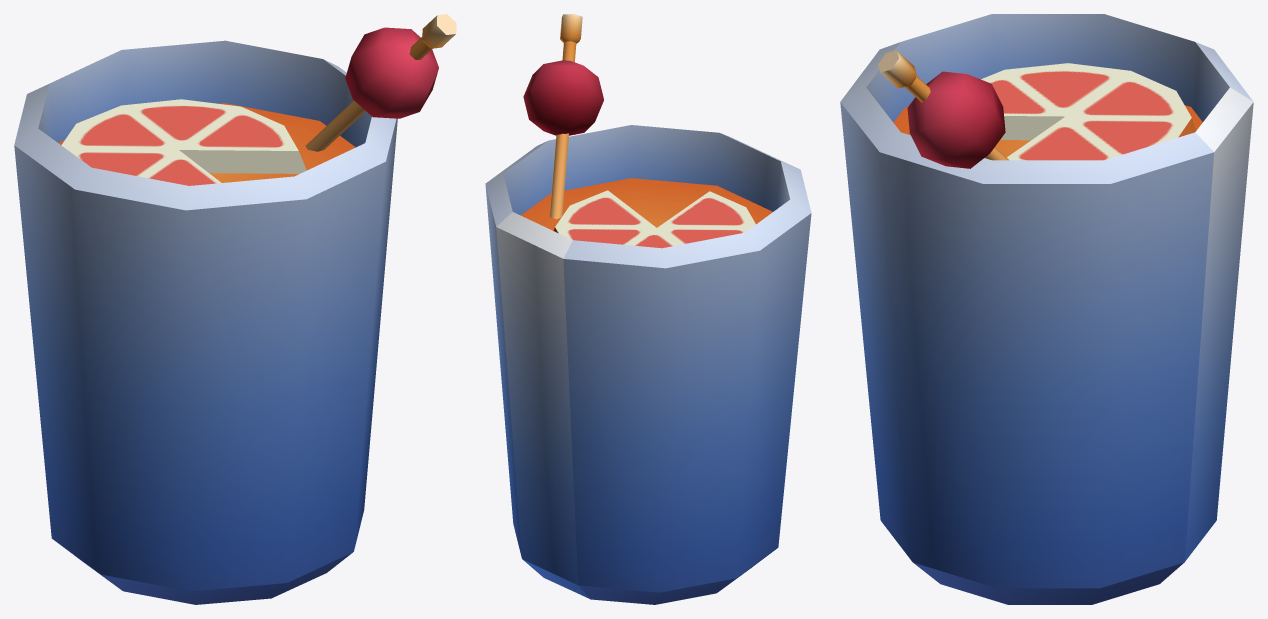
File: m_GrapefruitCocktail01.fbx
The picture shows the model from 3 angles, left to right: view 1: azimuth 30°, elevation 25°; view 2: azimuth 150°, elevation 25°; view 3: azimuth 270°, elevation 25°; orthographic projection. The views are drawn at different scales.
Parts seen in each view (by area): view 1: m_GrapefruitCocktail01; view 2: m_GrapefruitCocktail01; view 3: m_GrapefruitCocktail01.
Part boxes in pixels (x1,y1,x2,y2): m_GrapefruitCocktail01: (14, 14, 456, 604); m_GrapefruitCocktail01: (485, 14, 811, 604); m_GrapefruitCocktail01: (840, 14, 1253, 604).
Bounding box in the file's own units: 13.1 × 20.09 × 12.98.
